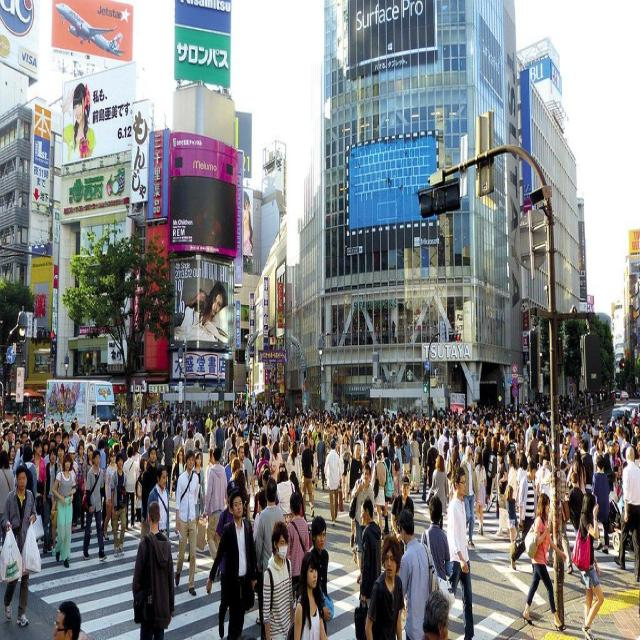body: (0, 399, 164, 454), (204, 488, 257, 640), (274, 403, 446, 442), (522, 491, 568, 633), (0, 464, 39, 627), (130, 499, 175, 639), (394, 507, 439, 640), (446, 392, 551, 445), (446, 465, 476, 640), (571, 486, 604, 639), (352, 492, 382, 639), (364, 531, 404, 639), (226, 393, 275, 481), (471, 570, 531, 638), (174, 447, 200, 600), (612, 443, 640, 583), (216, 479, 240, 640), (263, 519, 295, 639), (544, 451, 574, 575), (419, 493, 453, 602), (327, 520, 355, 640), (348, 462, 375, 586), (203, 446, 228, 579), (255, 475, 286, 582), (292, 550, 328, 640), (308, 515, 334, 638), (510, 458, 538, 572), (62, 72, 97, 162), (81, 449, 108, 562), (285, 490, 311, 606), (51, 450, 75, 570), (182, 280, 230, 338), (552, 392, 596, 448), (596, 410, 640, 462), (533, 619, 635, 639), (390, 474, 415, 554), (590, 452, 609, 556), (146, 463, 171, 542), (110, 453, 128, 560), (458, 444, 476, 549), (50, 442, 66, 559), (163, 396, 224, 426), (346, 442, 363, 549), (420, 587, 454, 640), (425, 454, 448, 532), (324, 438, 344, 526), (534, 441, 552, 535), (503, 449, 519, 552), (494, 450, 512, 540), (51, 596, 87, 640), (43, 448, 58, 553), (103, 446, 119, 543), (29, 436, 47, 522), (121, 444, 138, 531), (275, 461, 296, 530), (142, 443, 160, 522), (371, 448, 387, 536), (472, 450, 487, 535), (380, 446, 394, 536), (237, 481, 268, 521), (468, 543, 511, 571), (300, 434, 314, 519), (192, 450, 206, 534), (74, 441, 87, 531), (67, 444, 80, 534), (0, 448, 16, 521), (161, 422, 176, 498), (515, 451, 529, 532), (565, 446, 587, 496), (577, 436, 595, 496), (598, 564, 636, 591), (568, 471, 584, 535), (98, 438, 108, 538), (22, 444, 37, 510), (339, 432, 353, 502), (241, 189, 254, 254), (412, 493, 430, 539), (286, 438, 302, 489), (409, 432, 422, 494), (400, 430, 413, 490), (172, 444, 186, 498), (315, 431, 327, 492), (421, 429, 431, 502), (426, 435, 439, 490), (393, 434, 405, 492), (270, 440, 284, 486), (309, 435, 319, 499), (204, 436, 215, 492), (135, 456, 148, 502), (564, 572, 586, 599), (288, 466, 303, 504), (82, 444, 94, 491), (386, 432, 396, 485), (130, 440, 142, 483), (524, 428, 538, 464), (279, 425, 291, 465), (183, 427, 196, 463), (610, 461, 622, 500), (559, 442, 571, 478), (204, 411, 214, 453), (525, 415, 536, 452), (481, 435, 491, 474), (315, 489, 330, 515), (173, 422, 185, 454), (441, 442, 465, 458), (6, 444, 18, 475), (192, 425, 206, 451), (438, 425, 448, 461), (192, 438, 204, 468), (2, 429, 16, 454), (362, 441, 376, 466), (215, 418, 224, 451), (140, 435, 151, 460), (209, 424, 217, 449), (391, 319, 397, 344)
